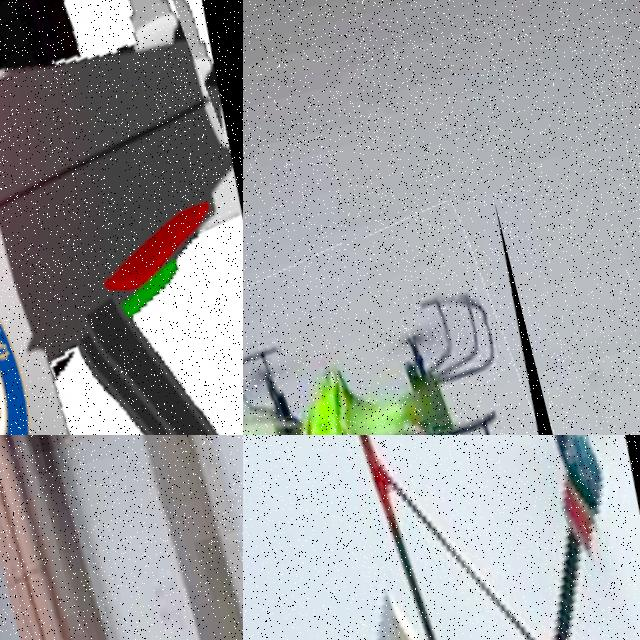0: (243, 204, 578, 435)
drone: (0, 0, 243, 435), (243, 435, 640, 640)
